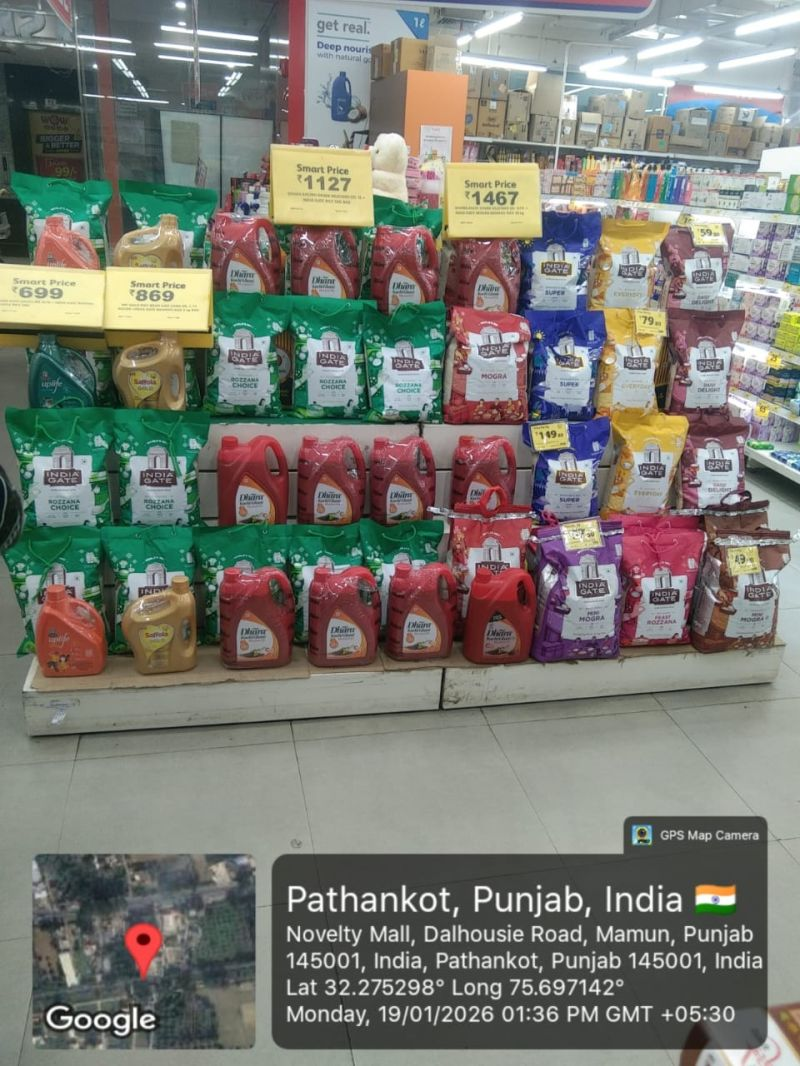other: (2, 291, 790, 676)
saffola: (119, 552, 188, 600)
